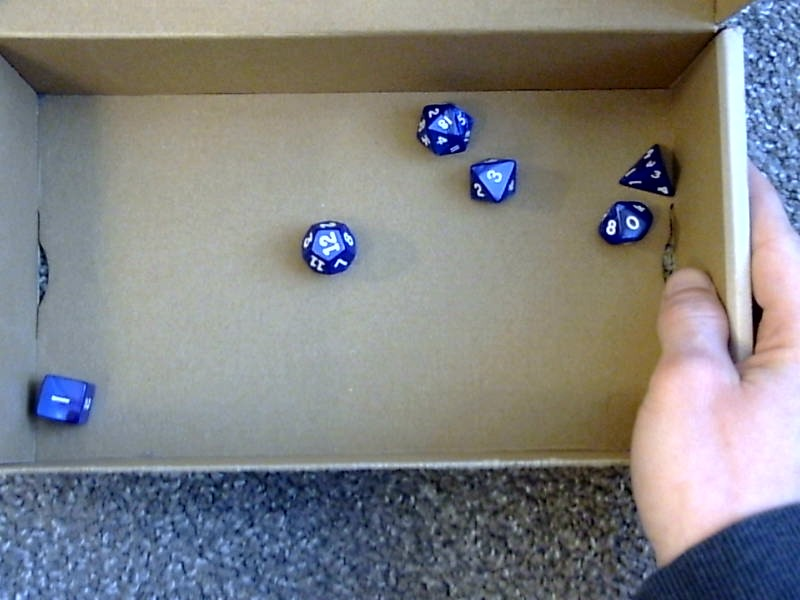d10 10: (593, 201, 658, 247)
d12 12: (298, 217, 359, 275)
d20 18: (415, 103, 475, 156)
d4 3: (614, 138, 685, 197)
d6 1: (32, 369, 103, 429)
d8 3: (467, 150, 516, 204)
